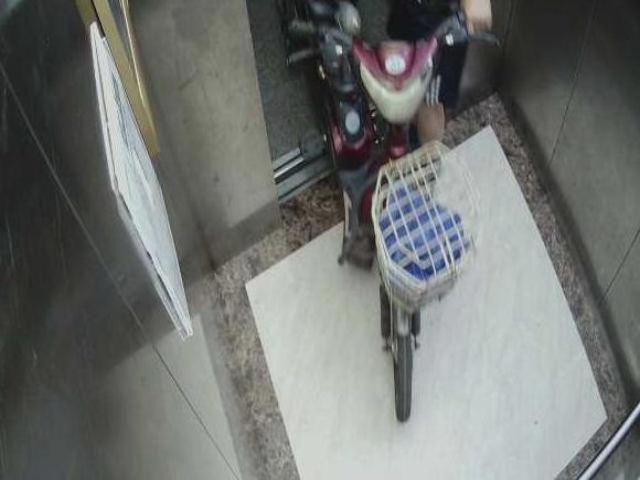emotor: (274, 4, 496, 426)
